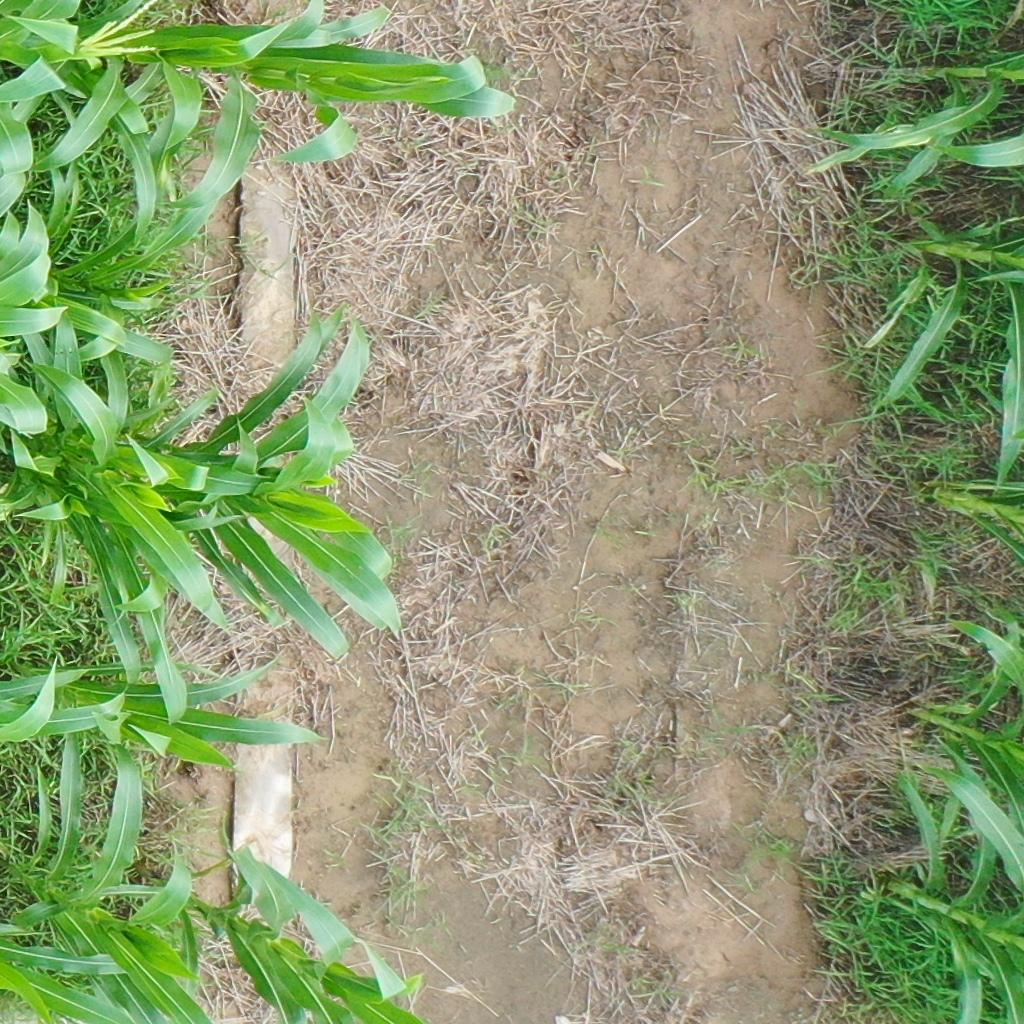Tassel: (69, 1, 164, 69)
